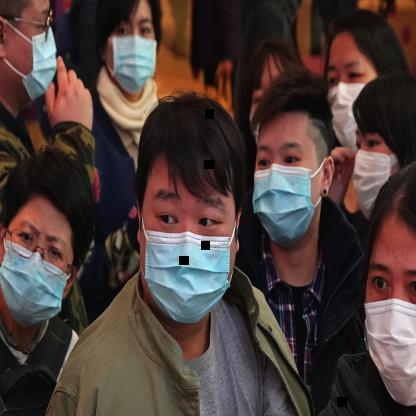mask: (132, 92, 248, 332), (0, 148, 92, 331), (251, 71, 337, 258), (354, 160, 416, 414), (324, 10, 401, 156), (347, 78, 416, 226), (94, 0, 167, 96), (0, 0, 59, 110)
